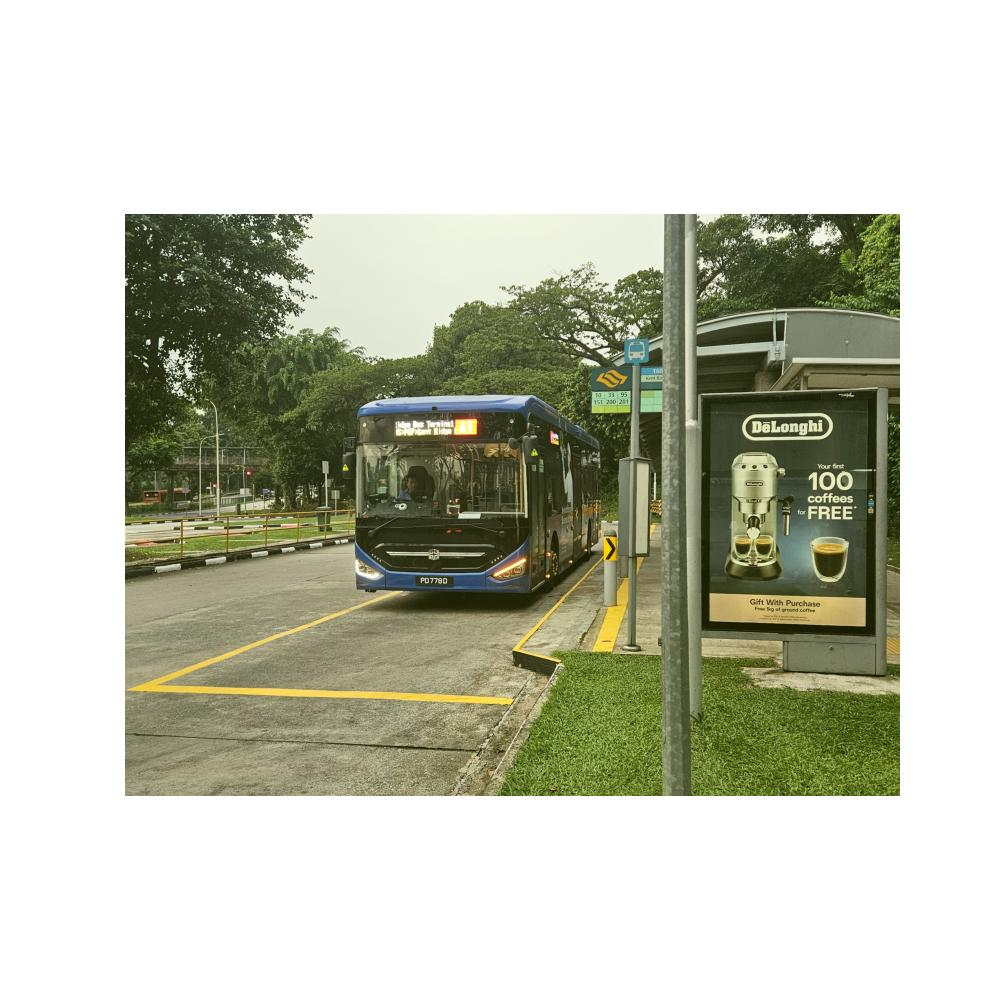bus: (335, 394, 603, 607)
